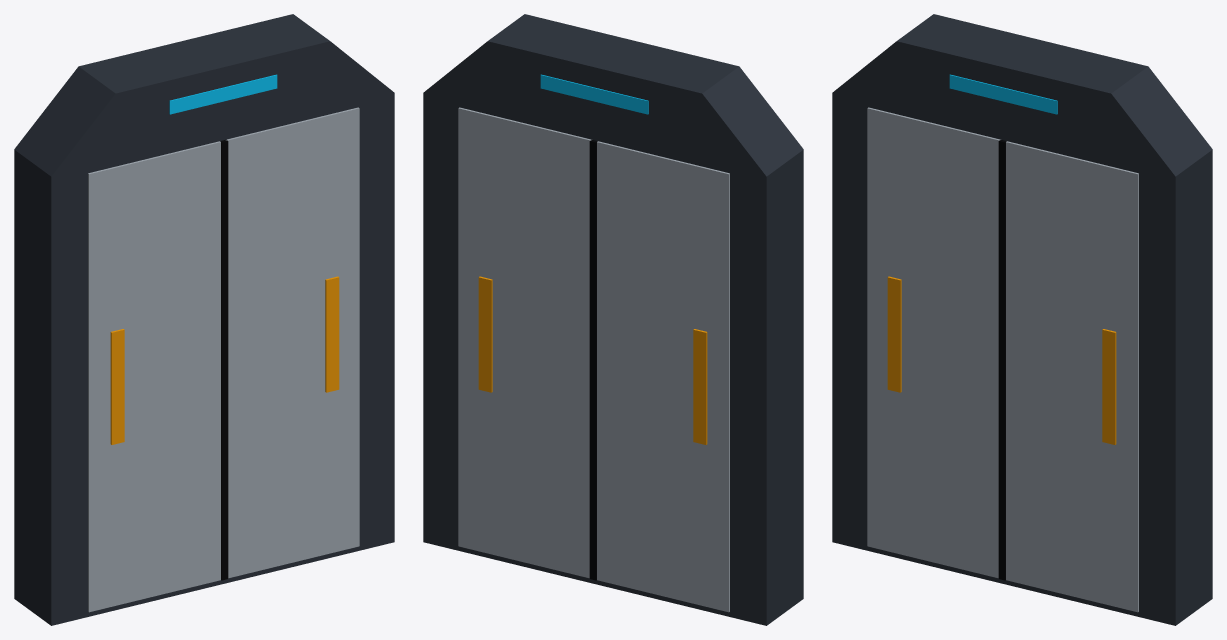
Rendered from sci_fi_door.obj.
3 renders of one model, left to right at view 1: azimuth 30°, elevation 25°; view 2: azimuth 150°, elevation 25°; view 3: azimuth 330°, elevation 25°, orthographic.
Visible parts, largest first — view 1: sci_fi_door; view 2: sci_fi_door; view 3: sci_fi_door.
Boxes of the visible parts, x1,y1,x2,y2 form: sci_fi_door: (14,14,394,625); sci_fi_door: (423,14,803,625); sci_fi_door: (832,14,1212,625).
Size of the model in its own units: 1.6 by 2.3 by 0.34.
